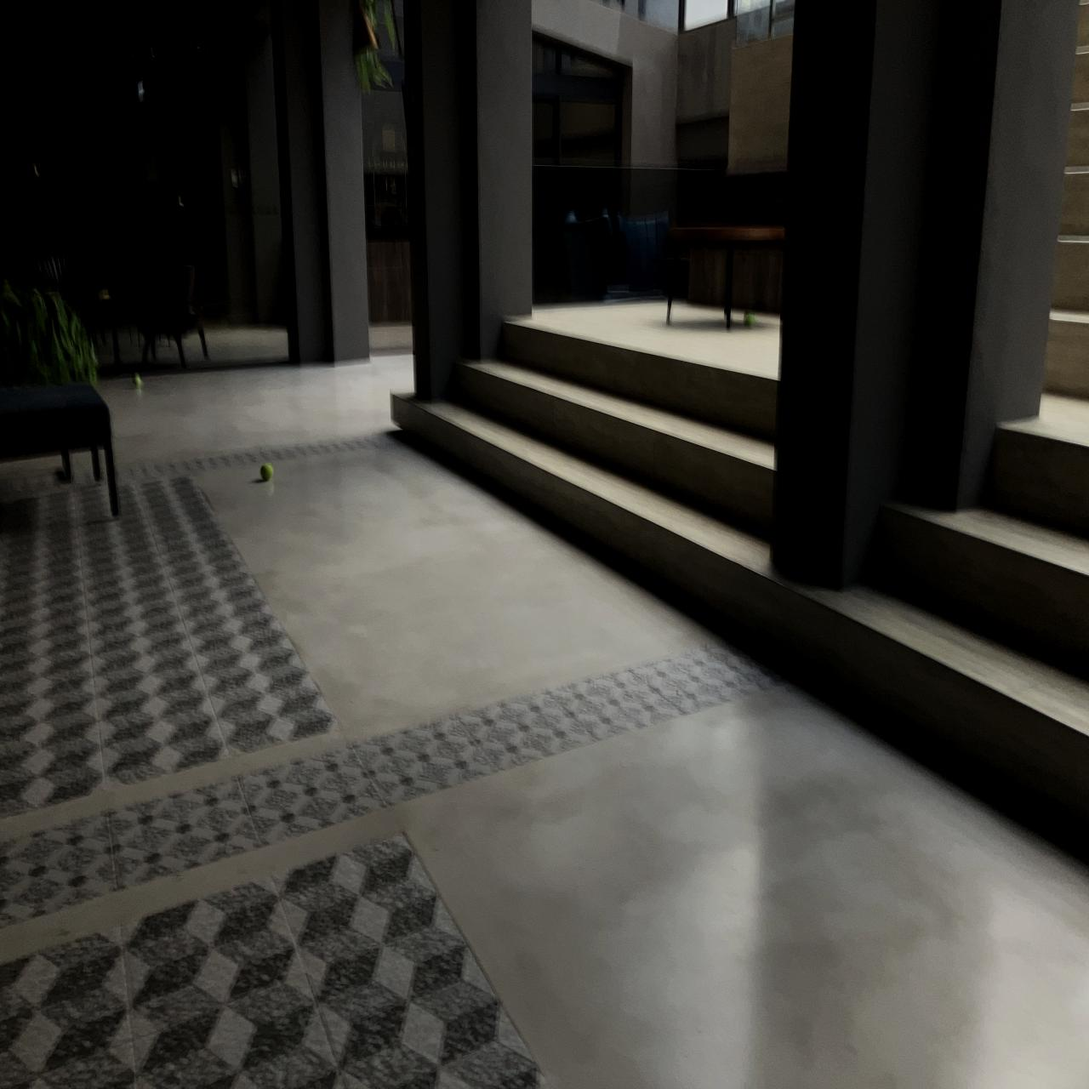tennisball: (259, 463, 274, 482), (744, 311, 756, 328), (133, 373, 142, 387)
